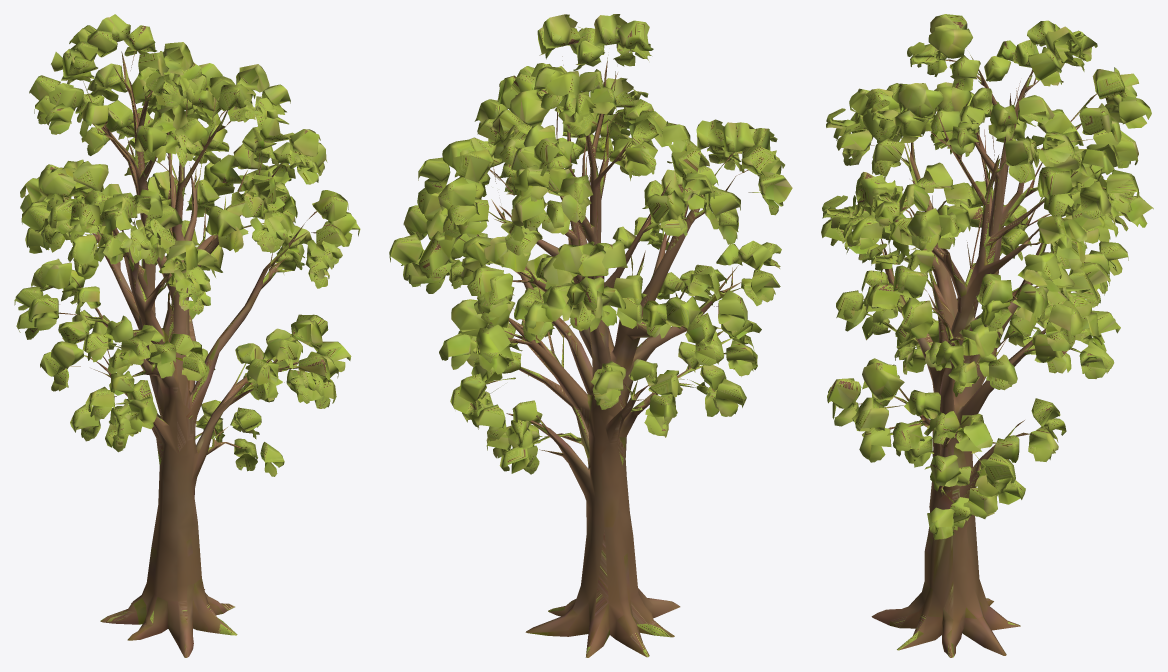
The model's file is tree-3.glb.
The picture shows the model from 3 angles, left to right: view 1: azimuth 30°, elevation 25°; view 2: azimuth 150°, elevation 25°; view 3: azimuth 270°, elevation 25°; orthographic projection. The views are drawn at different scales.
Size of the model in its own units: 0.5454 by 0.9995 by 0.4966.
1 material, 1 textured.
